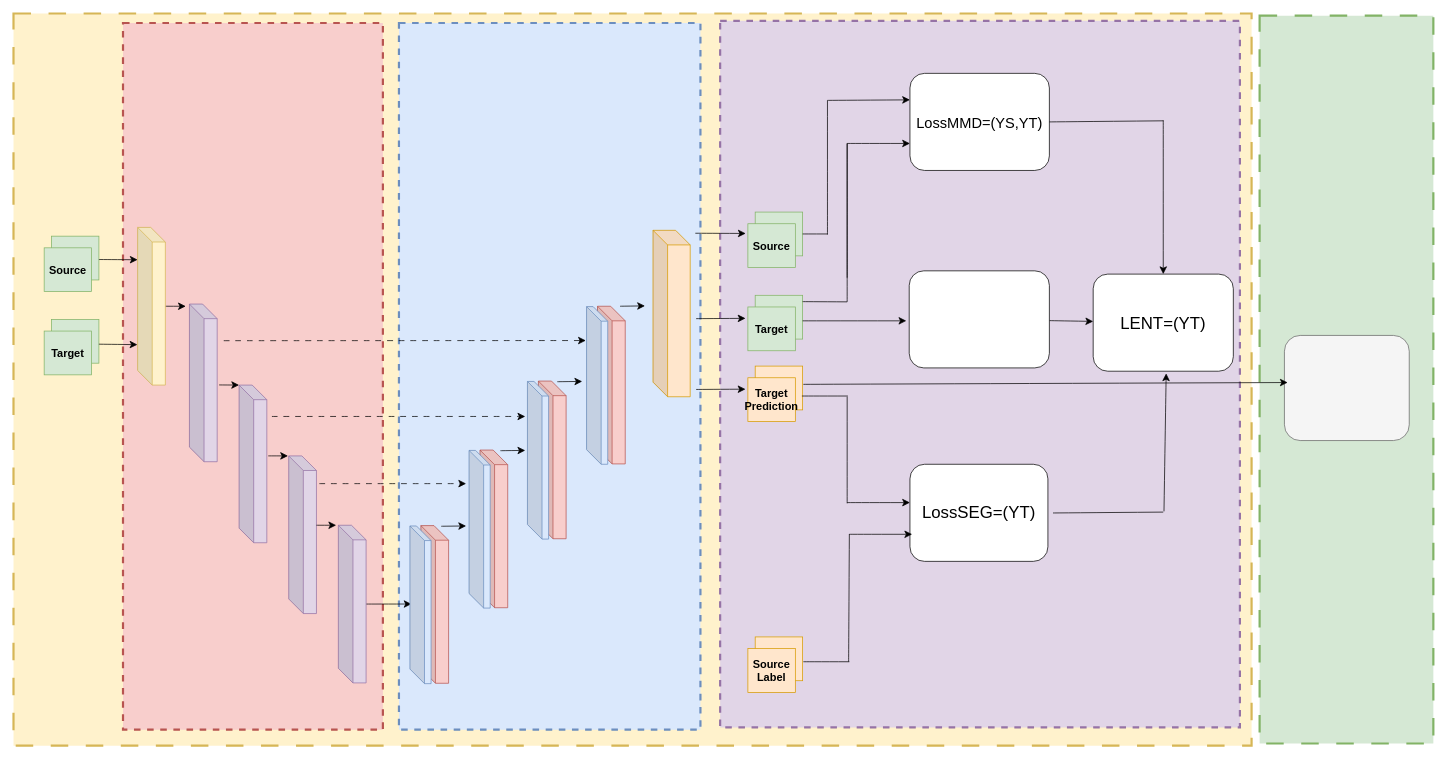
Image size: 1447x759. Some labels were removed from this diagram. Each missing label, with the centre of its shape:
"LossENT=(YT)" belongs at pixel 978 319.
"Post Processing" belongs at pixel 1346 388.
